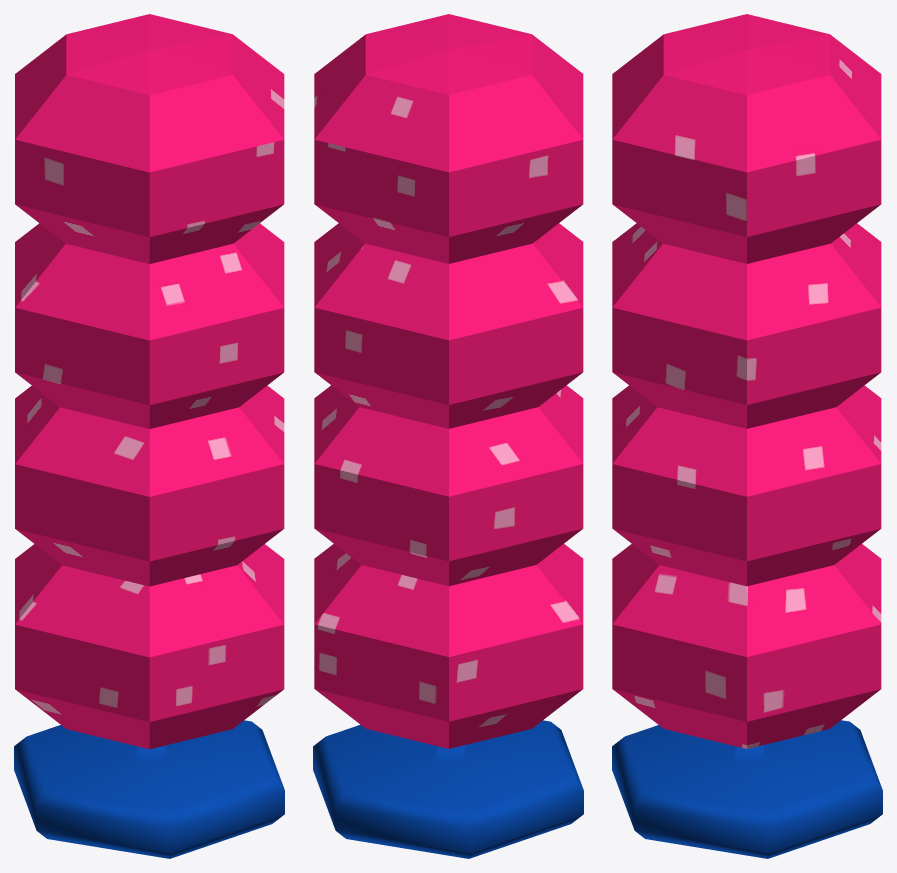
The model's file is OBS0110027.fbx.
3 renders of one model, left to right at view 1: azimuth 30°, elevation 25°; view 2: azimuth 150°, elevation 25°; view 3: azimuth 270°, elevation 25°, orthographic.
Parts seen in each view (by area): view 1: smOBS0110027; view 2: smOBS0110027; view 3: smOBS0110027.
Boxes of the visible parts, bbox=[...] form: smOBS0110027: bbox=[14, 14, 284, 858]; smOBS0110027: bbox=[313, 14, 583, 858]; smOBS0110027: bbox=[612, 14, 882, 858].
Size of the model in its own units: 68.78 by 184 by 59.97.
Materials: 1 (1 with a texture image).
